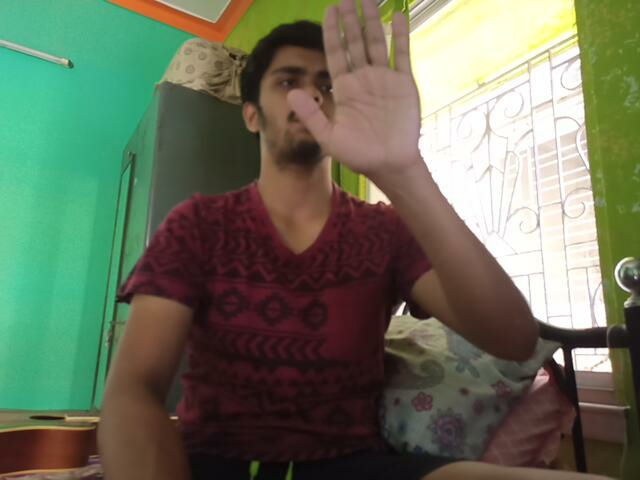Hello: (285, 2, 425, 176)
